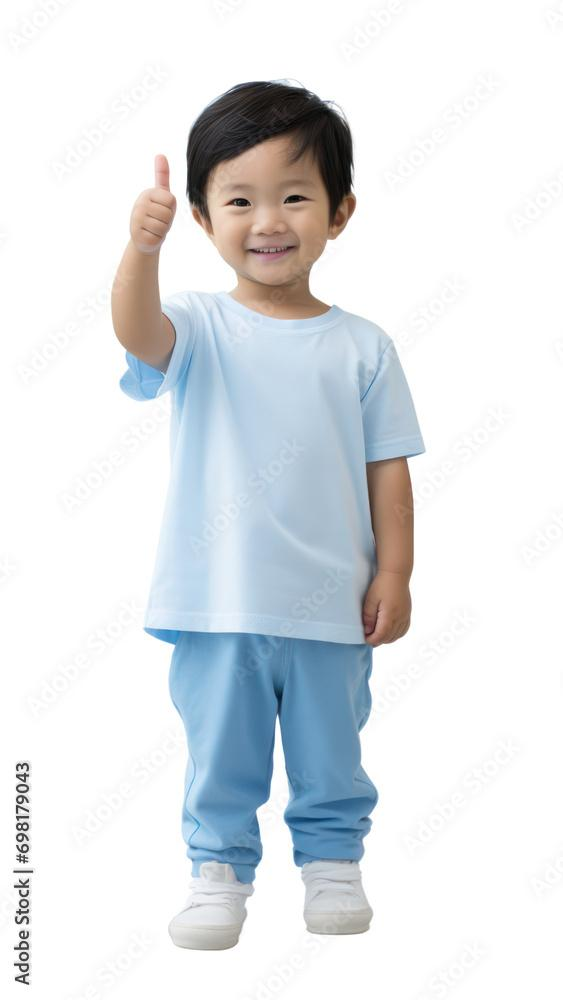Human: (58, 84, 442, 965)
